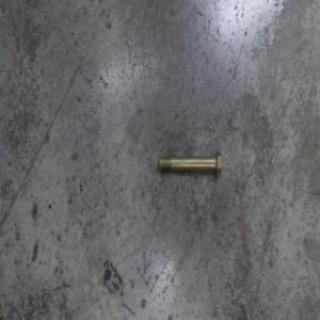Bolttrack_idkeyframe: (156, 147, 223, 176)
